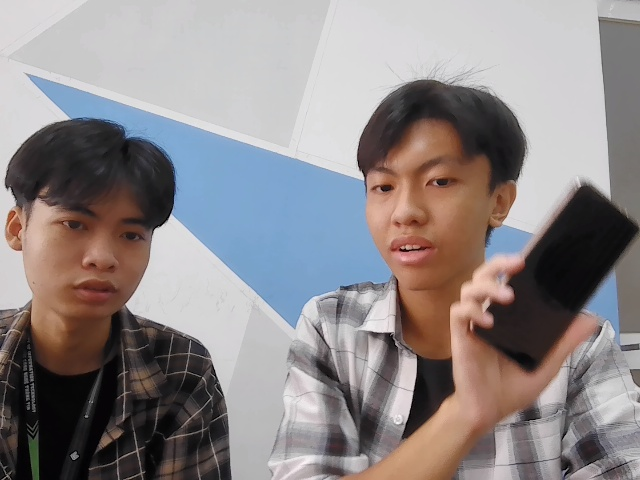human: (5, 121, 181, 317), (361, 81, 515, 277)
phone: (461, 169, 640, 382)
